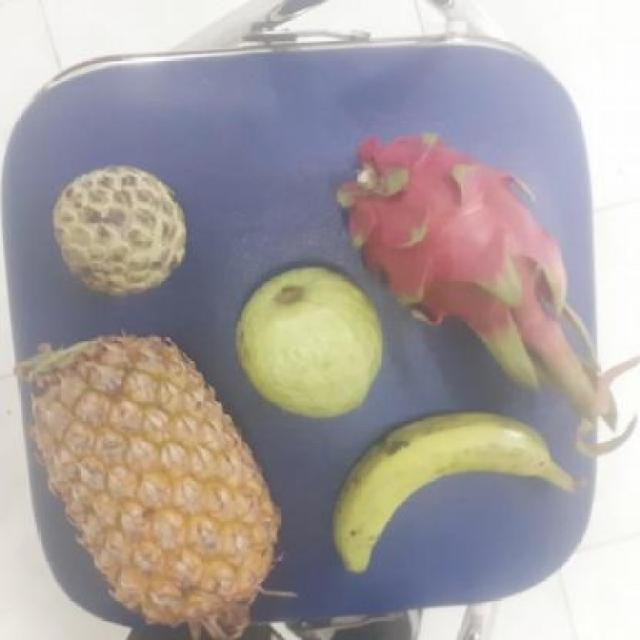dragon fruit: (345, 125, 570, 342)
guava: (235, 264, 390, 413)
pineapple: (30, 333, 279, 625)
sugar apple: (53, 165, 193, 293)
